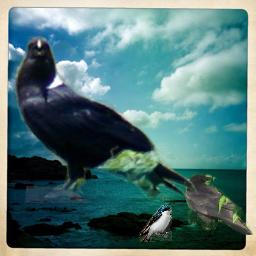Crow: (13, 36, 199, 203), (185, 174, 253, 235)
Swallow: (139, 205, 172, 242)
